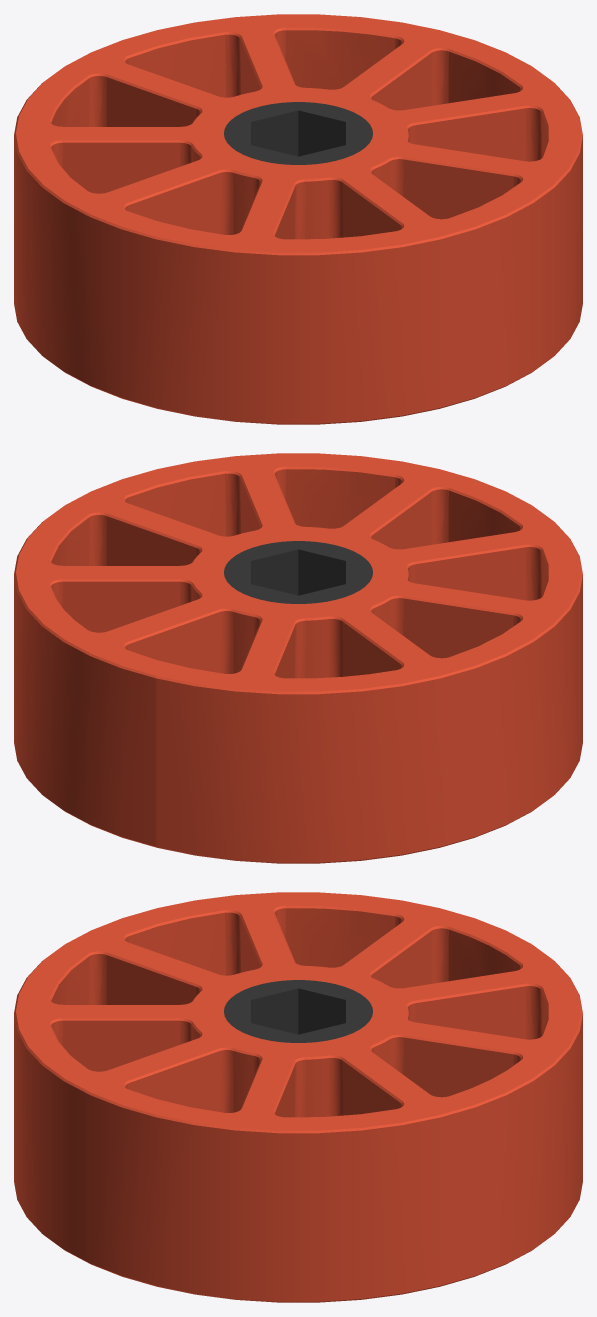
File: .compliant_wheel_am_outer_diameter_3_bore_1_2_hex_durometer_40a.step.glb
The picture shows the model from 3 angles, top to bottom: view 1: azimuth 30°, elevation 25°; view 2: azimuth 150°, elevation 25°; view 3: azimuth 270°, elevation 25°; orthographic projection.
Parts seen in each view (by area): view 1: o1; view 2: o1; view 3: o1.
Boxes of the visible parts, x1,y1,x2,y2 form: o1: (14,14,582,424); o1: (14,453,582,863); o1: (14,892,582,1302).
Size of the model in its own units: 0.076 by 0.0254 by 0.0762.
